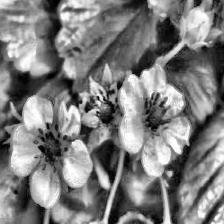Blossom Blight: (31, 122, 71, 176), (138, 91, 174, 142), (91, 88, 120, 132)
